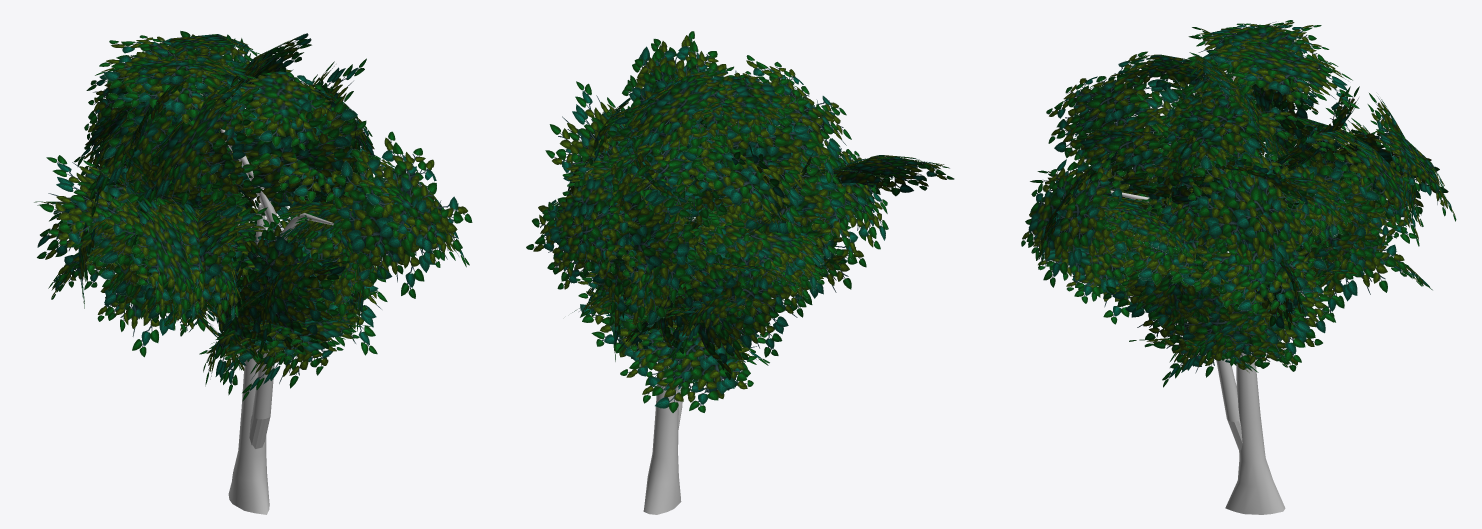
The model's file is tree1.FBX.
3 views of the same model, side by side, from view 1: azimuth 30°, elevation 25°; view 2: azimuth 150°, elevation 25°; view 3: azimuth 270°, elevation 25° (orthographic). The views are drawn at different scales.
Visible parts, largest first — view 1: tree1_1 (×2); view 2: tree1_1 (×2); view 3: tree1_1 (×2).
Boxes of the visible parts, x1,y1,x2,y2 form: tree1_1 (×2): [34, 30, 472, 514]; tree1_1 (×2): [526, 31, 954, 514]; tree1_1 (×2): [1021, 20, 1456, 514].
Bounding box in the file's own units: 206 × 256 × 229.
